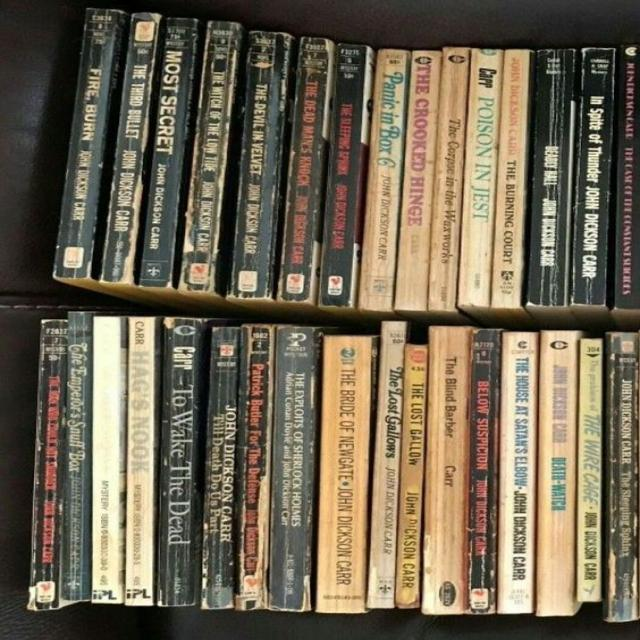book: (53, 8, 128, 280), (178, 22, 242, 292), (229, 31, 293, 300), (315, 336, 376, 613), (100, 14, 160, 284), (140, 18, 199, 288), (266, 326, 320, 611), (277, 38, 334, 304), (421, 327, 473, 614), (157, 318, 207, 606), (318, 44, 372, 308), (359, 50, 410, 312), (524, 49, 575, 307), (536, 331, 581, 616), (27, 319, 68, 610), (457, 50, 503, 307), (569, 48, 614, 309), (234, 324, 275, 610), (497, 332, 538, 613), (394, 51, 438, 311), (201, 327, 241, 609), (367, 321, 406, 609), (428, 48, 469, 310), (490, 51, 531, 309), (603, 332, 639, 622), (125, 318, 161, 606), (91, 316, 125, 603), (469, 330, 502, 614), (62, 312, 93, 602), (395, 345, 426, 608), (613, 46, 639, 319), (576, 339, 600, 602)
